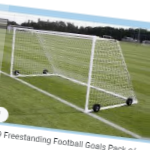goals: (8, 23, 140, 117)
